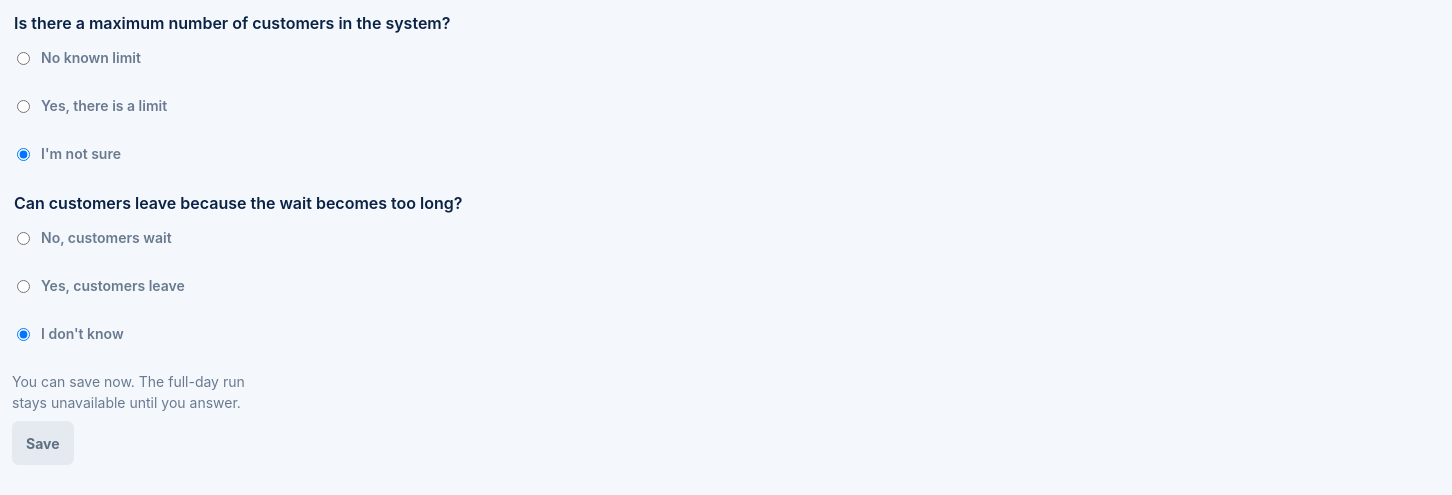
Test case: Simulation model choices › does not write if the required fresh read fails
Click the radio button labelled "No known limit".
click(24, 58)  # box [17,52,30,65]
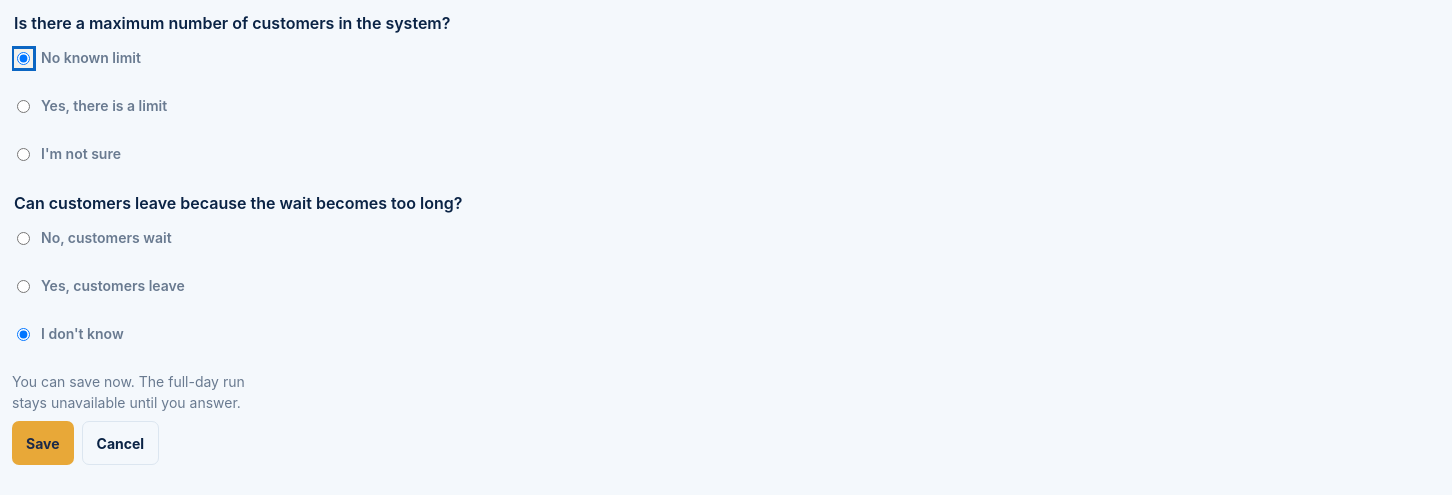
Click the radio button labelled "No, customers wait".
click(24, 238)  # box [17,232,30,245]
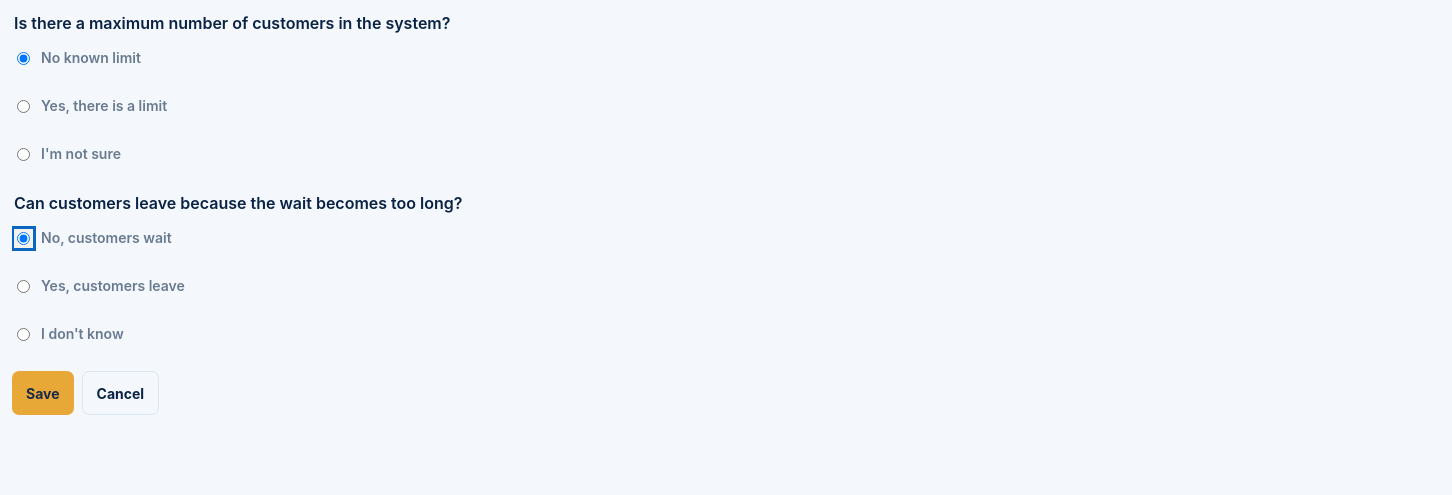
Click the button "Save".
click(43, 393)  # box [12,371,74,415]
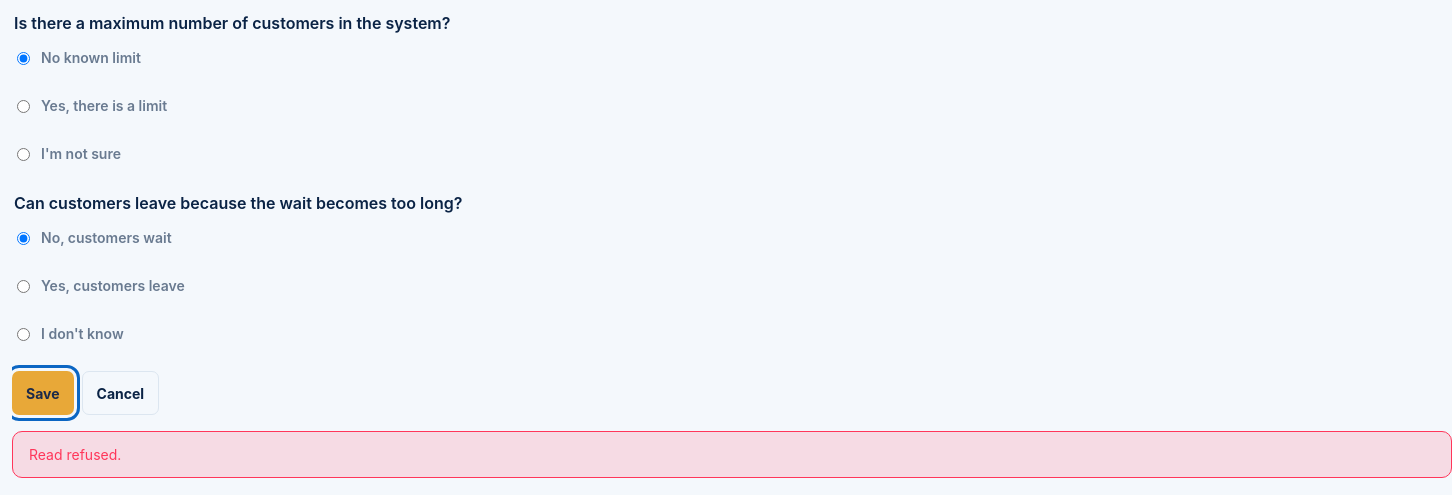
Check: the message reads "Read refused.", box [29,446,121,463]
